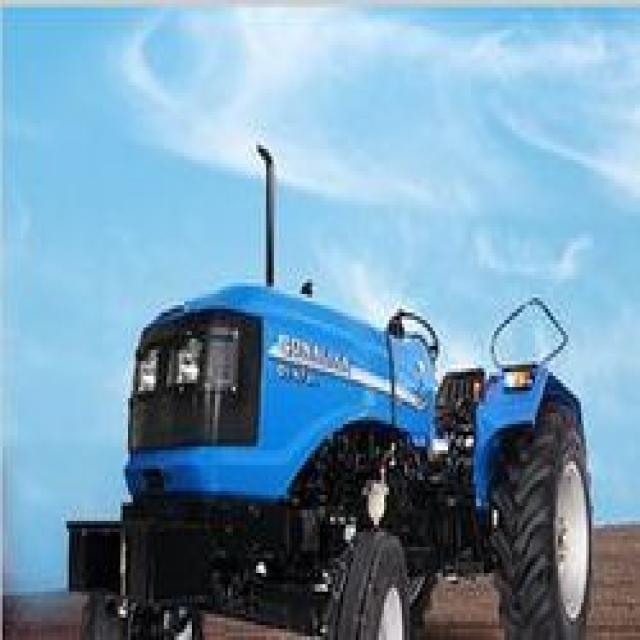Tratores - v5 YOLO V8L 2024-11-13: (60, 100, 606, 640)
